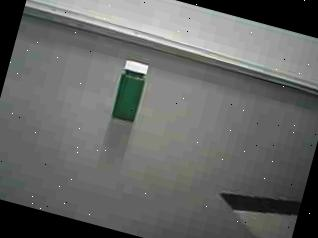Bottle C: (101, 51, 156, 130)
